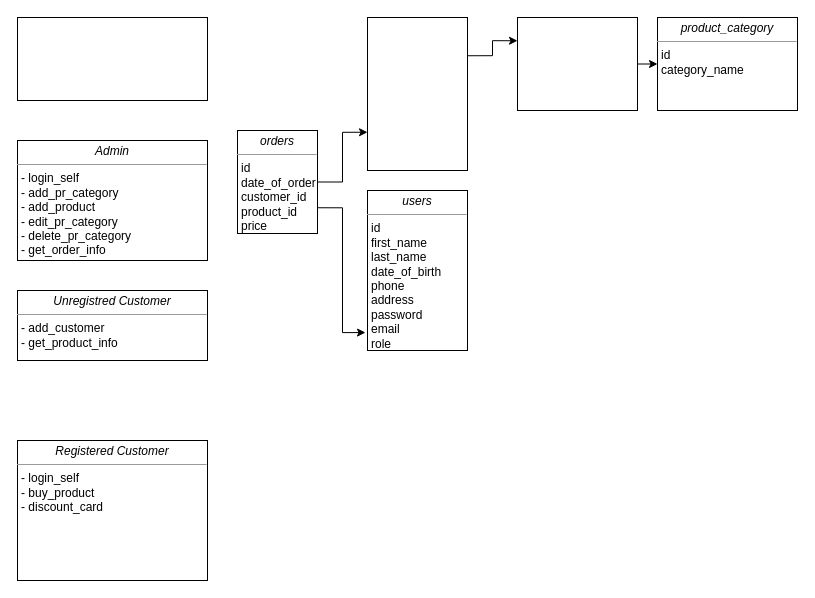
The diagram is 815 pixels wide and 598 high, and some of its shapes have lost their labels. The centre of each missing label's shape, as x and y in pixels:
product id code product_name unit_price count description img sub_category_id: (x=417, y=93)
product_subcategory id subcategory_name category_name: (x=577, y=63)
Super Admin - login_self - add_admin - delete_admin: (x=112, y=58)
